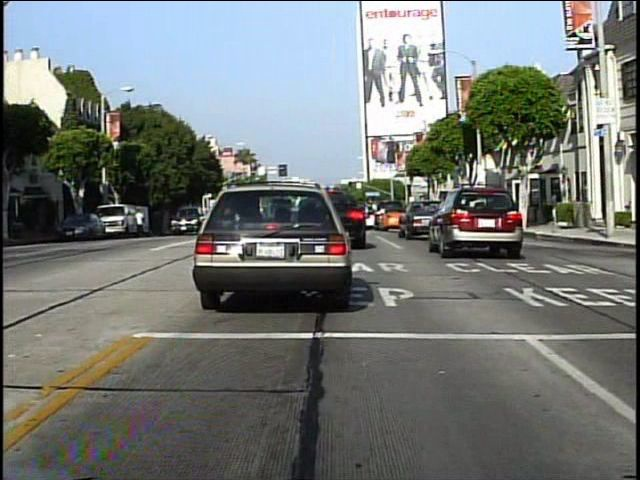person: (133, 205, 147, 240)
